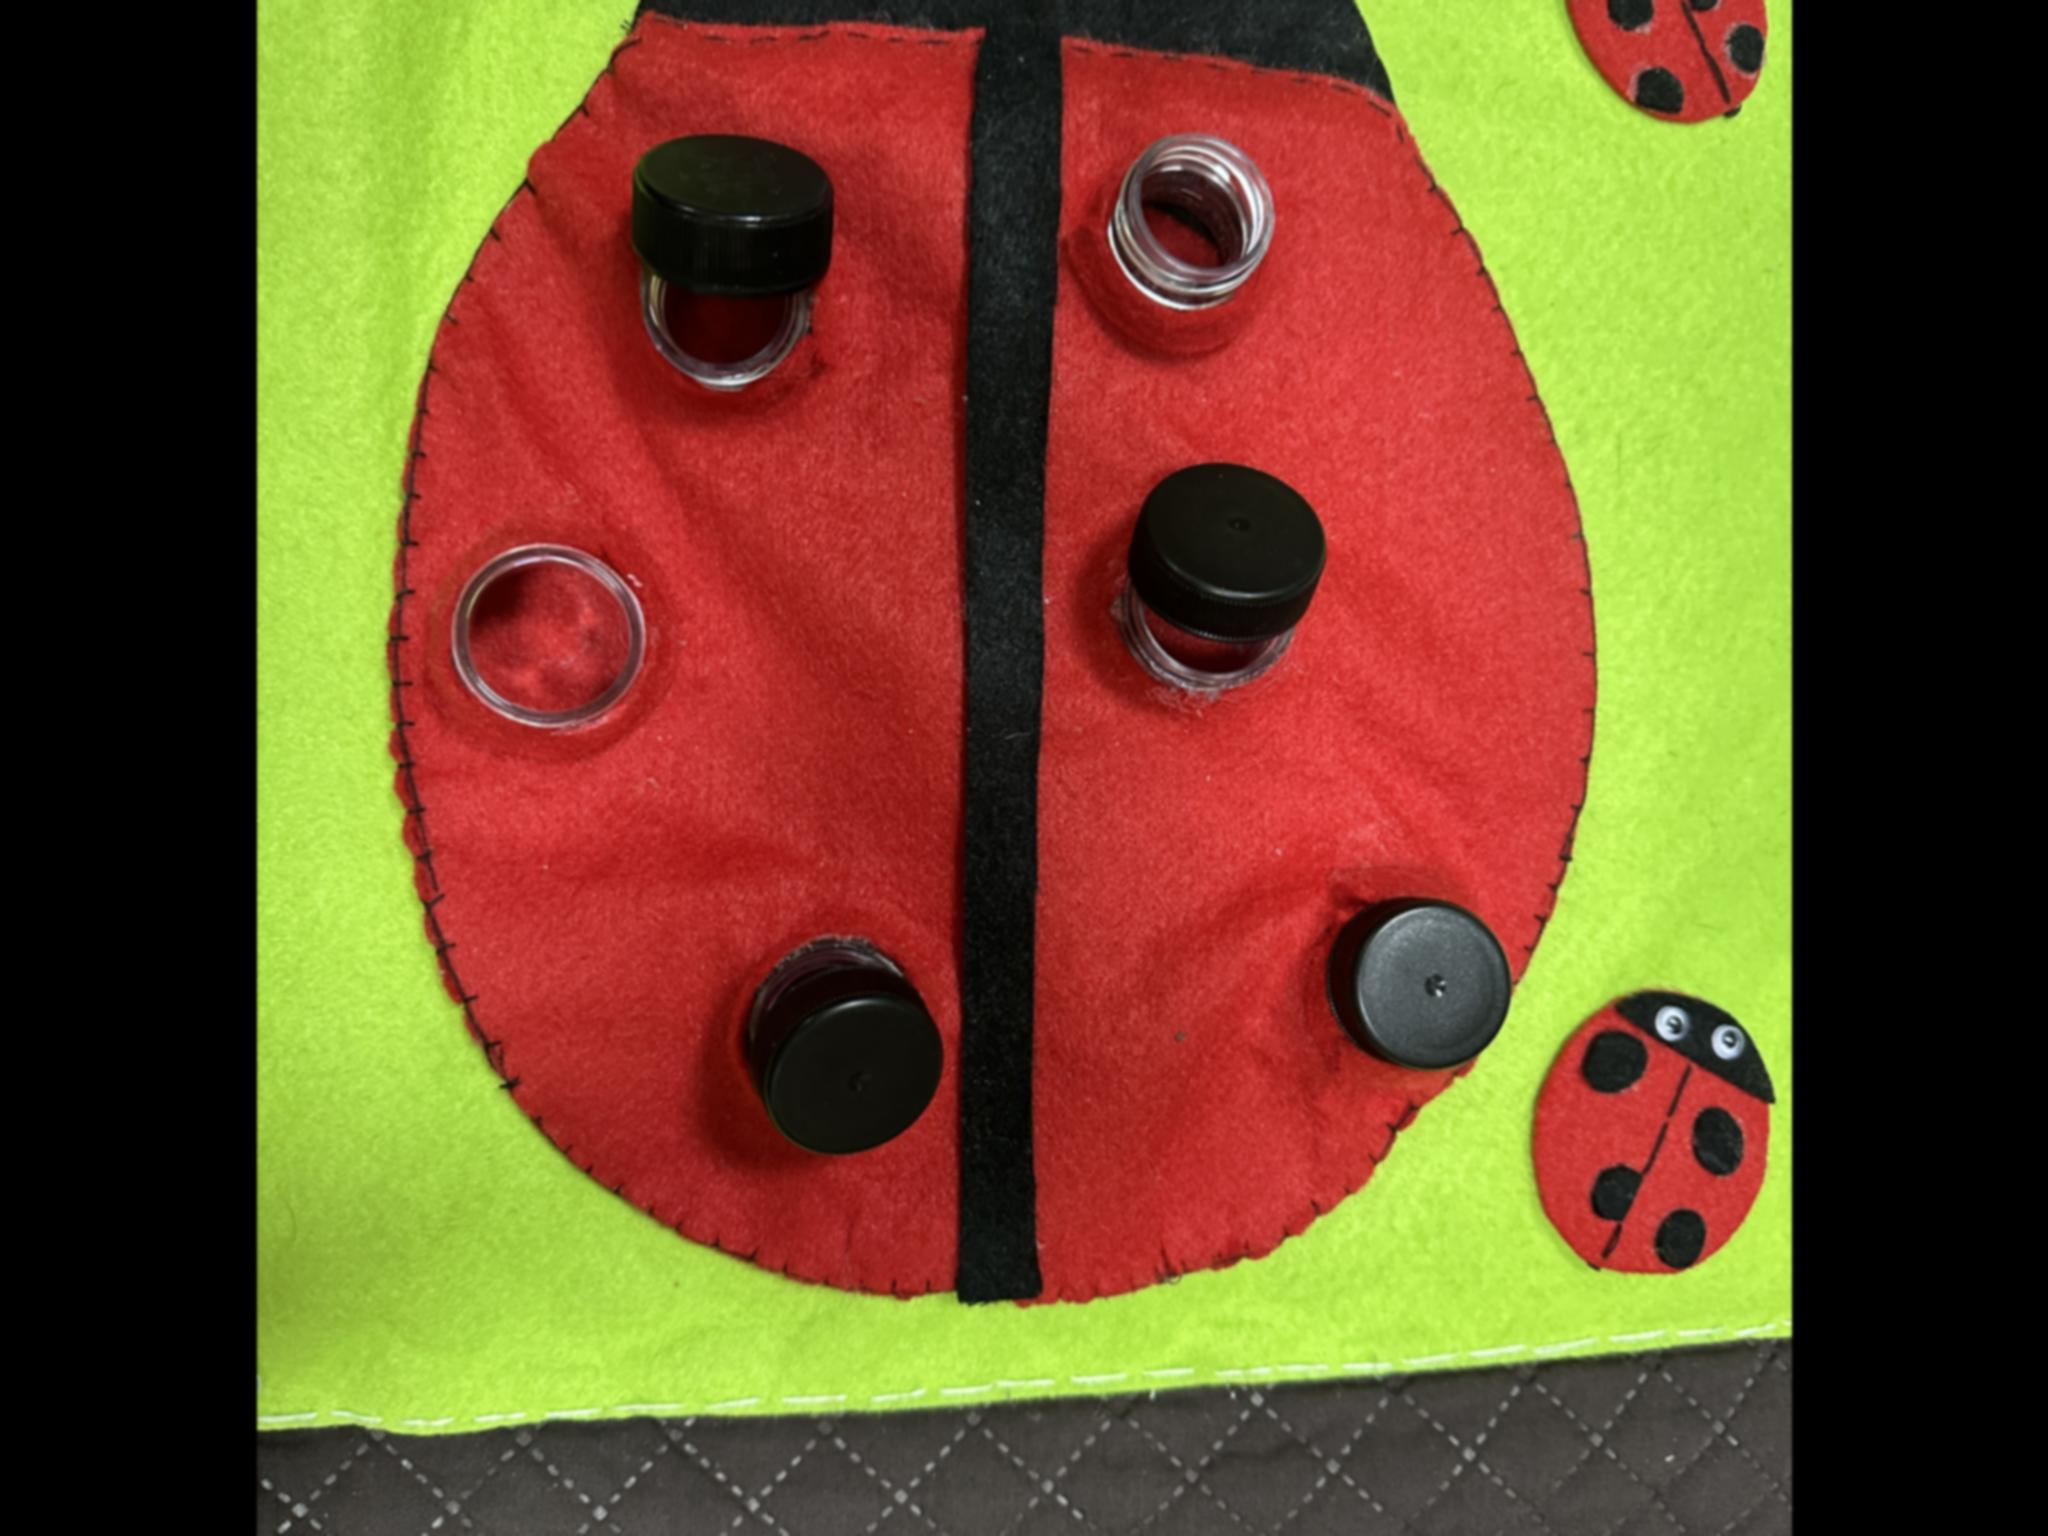cap_ng: (613, 97, 848, 440), (713, 886, 958, 1187), (1092, 453, 1350, 731)
cap_ok: (1308, 870, 1532, 1097)
